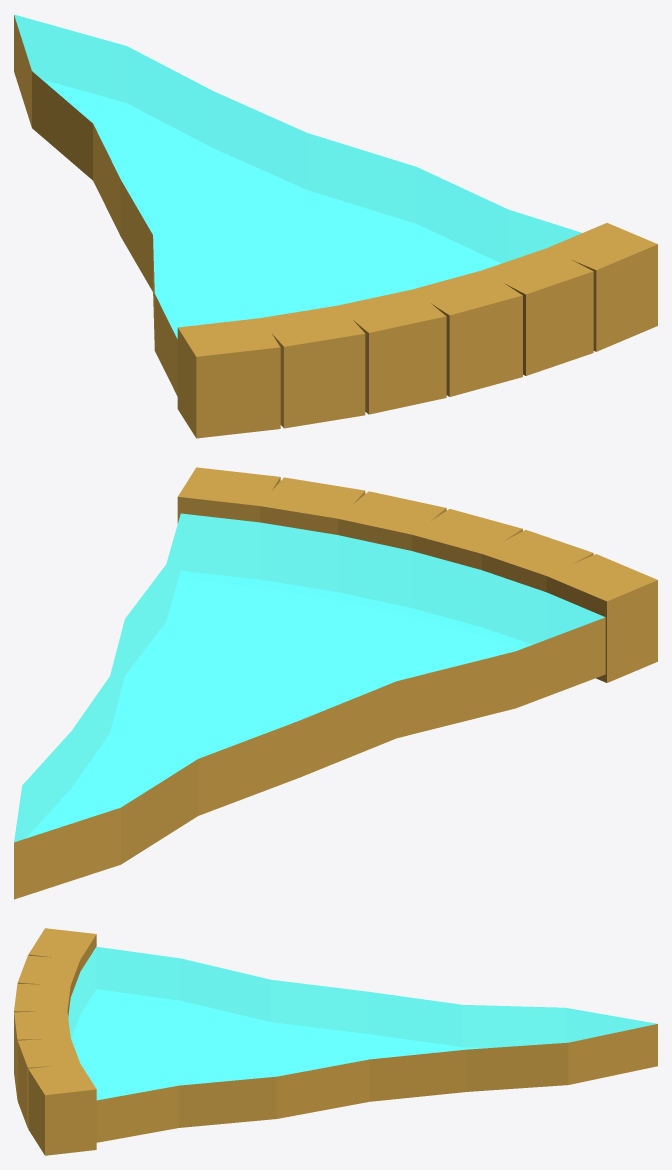
Rendered from prop_compass_piece_08_v01.glb.
The picture shows the model from 3 angles, top to bottom: view 1: azimuth 30°, elevation 25°; view 2: azimuth 150°, elevation 25°; view 3: azimuth 270°, elevation 25°; orthographic projection. The views are drawn at different scales.
Parts seen in each view (by area): view 1: piece_08; view 2: piece_08; view 3: piece_08.
Part boxes in pixels (x1,y1,x2,y2): piece_08: (14,14,657,438); piece_08: (14,467,657,899); piece_08: (14,928,657,1155).
Size of the model in its own units: 0.2959 by 0.05 by 0.482.
